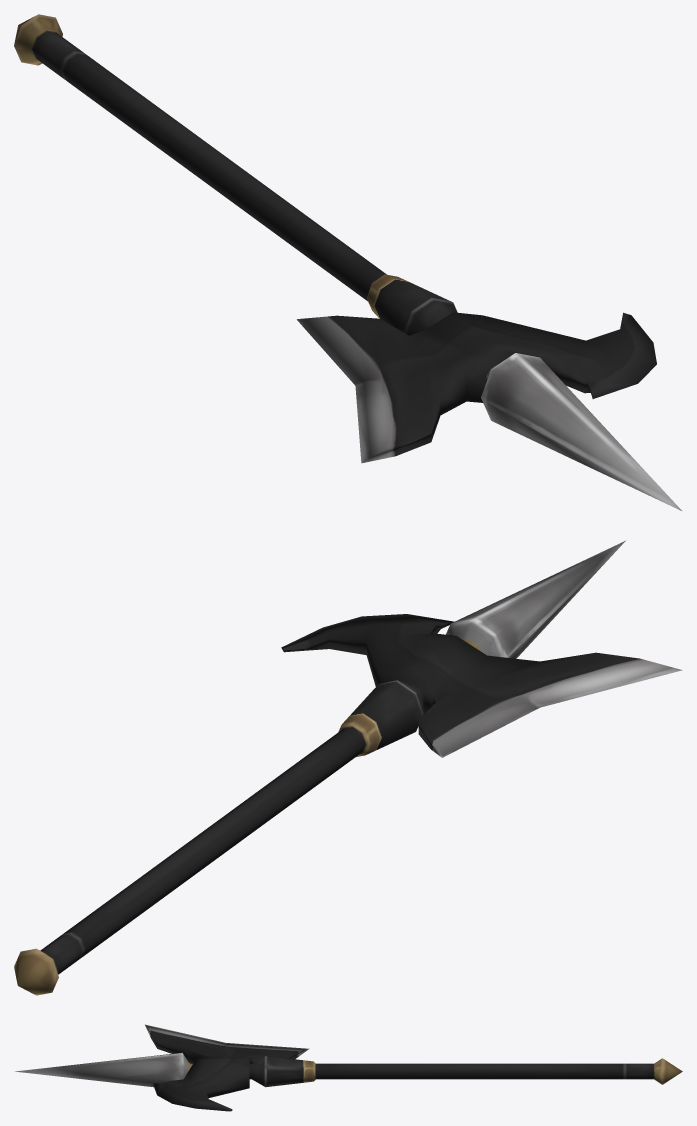
Rendered from Spear_blackiron.fbx.
The picture shows the model from 3 angles, top to bottom: view 1: azimuth 30°, elevation 25°; view 2: azimuth 150°, elevation 25°; view 3: azimuth 270°, elevation 25°; orthographic projection. The views are drawn at different scales.
Parts seen in each view (by area): view 1: Spear_blackiron; view 2: Spear_blackiron; view 3: Spear_blackiron.
Boxes of the visible parts, <box> form: Spear_blackiron: <box>14,14,681,510</box>; Spear_blackiron: <box>14,540,682,995</box>; Spear_blackiron: <box>15,1024,682,1111</box>.
Bounding box in the file's own units: 4.98 × 0.9737 × 16.18.
